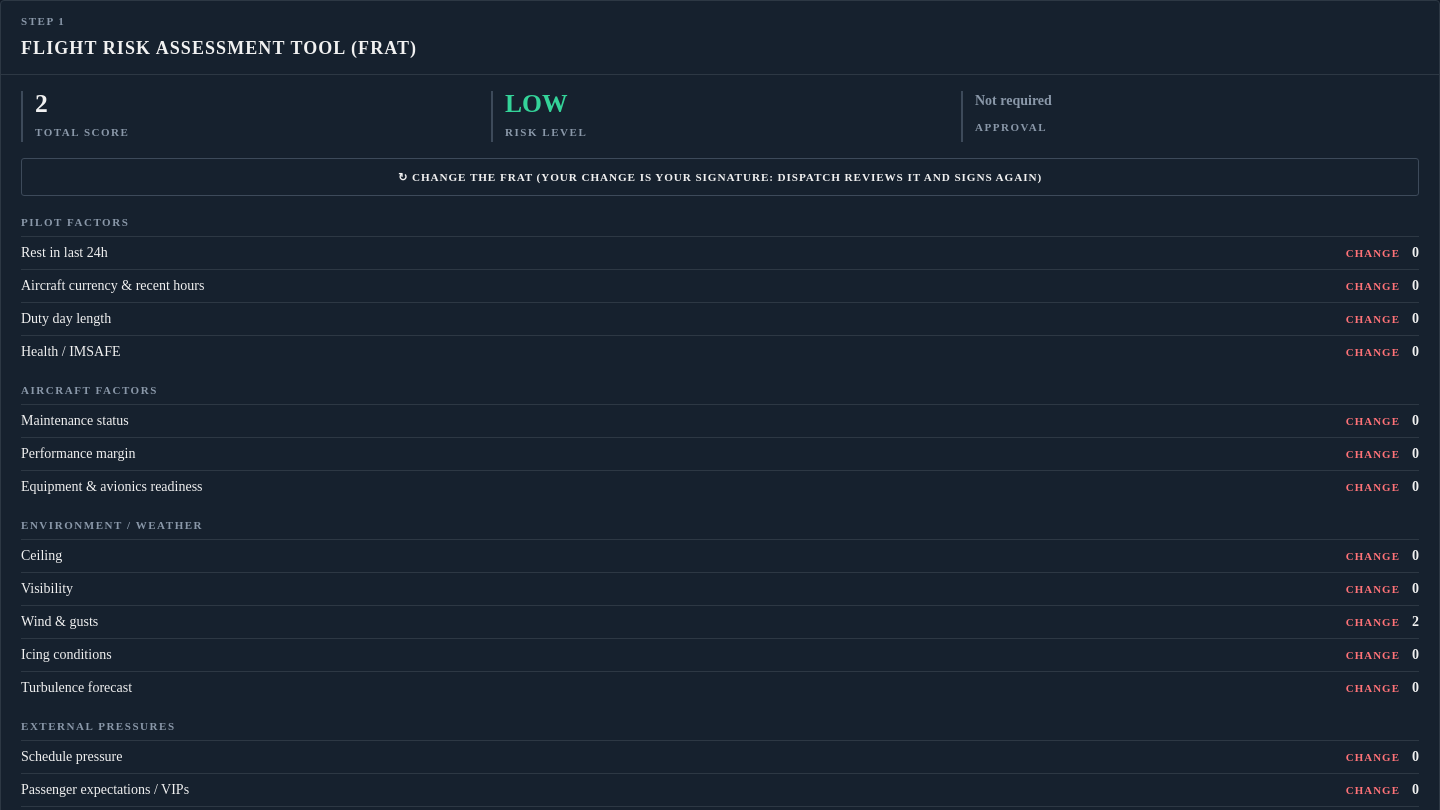
the pilot's change is their signature (17 Nov) › counts a new mitigation as a change
Click the button "Change the FRAT" at (720, 177), box [21,158,1419,196]
(page scrolled)
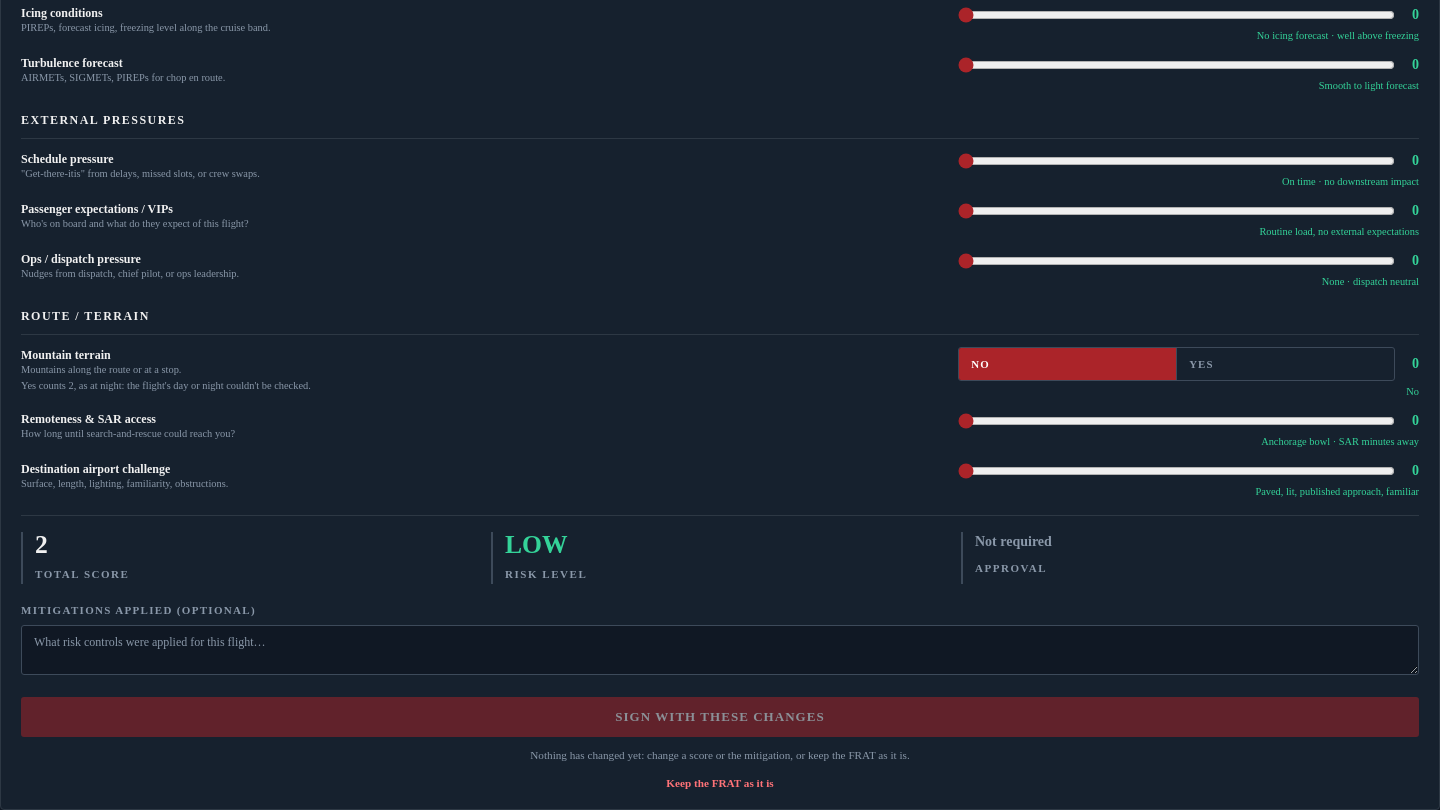
Type "Leaving before the front" into the text box with placeholder "What risk controls were applied for this flight…" at (720, 650), box [21,625,1419,675]
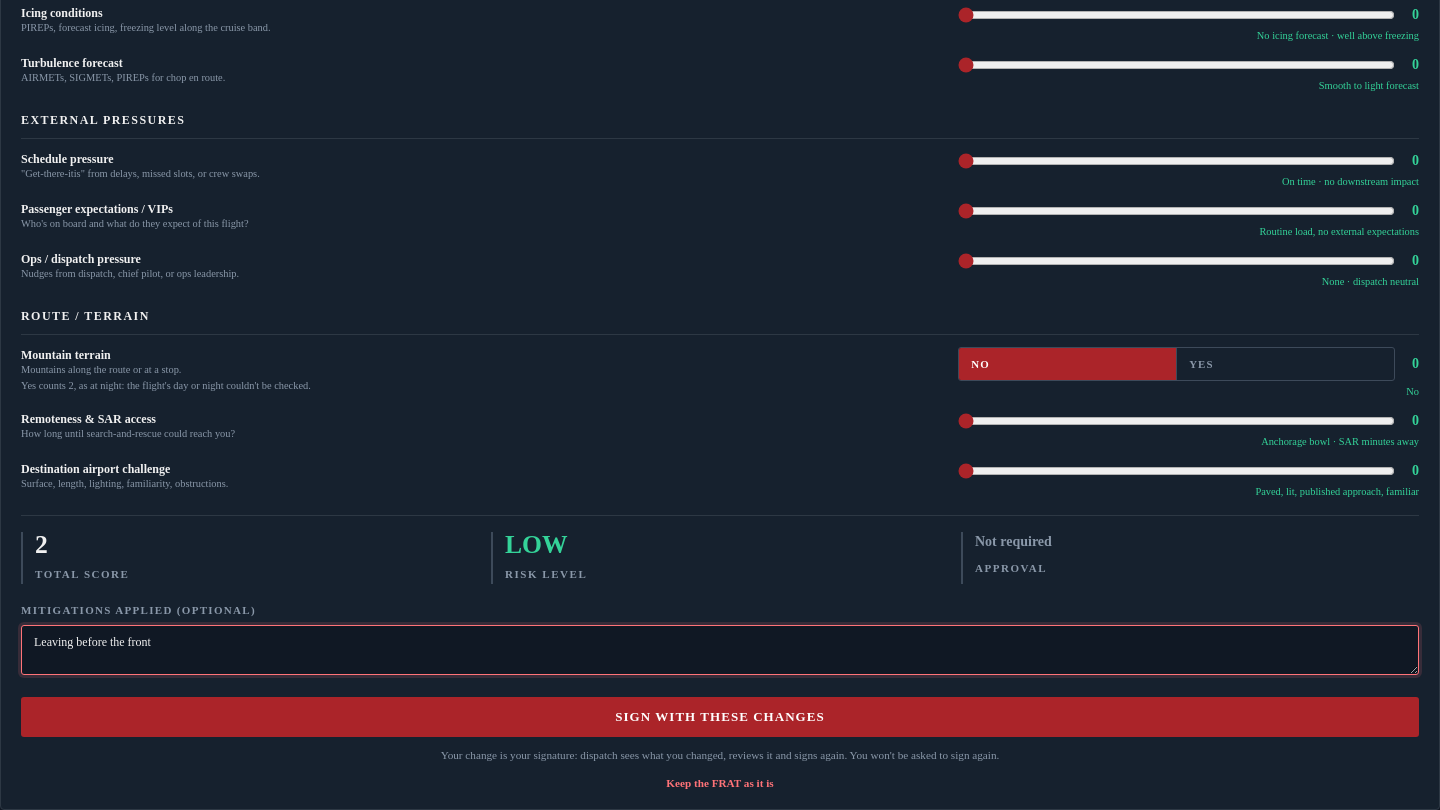
Now the button "Sign with these changes" is enabled, box [21,697,1419,737]
